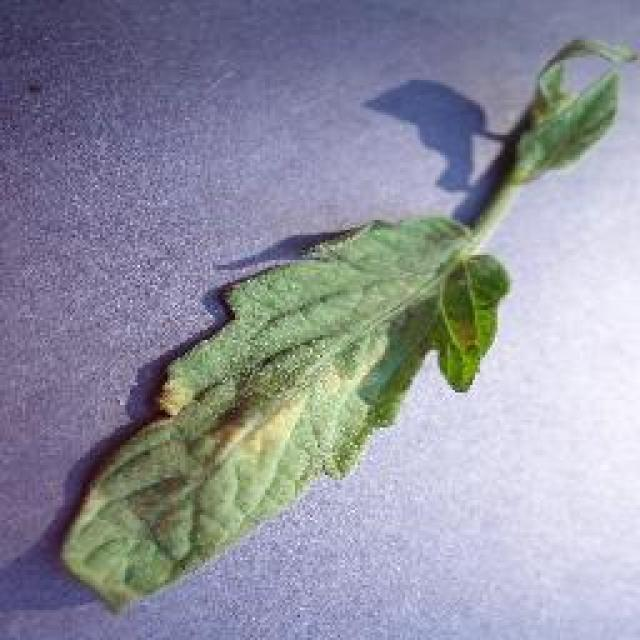Tomato___Leaf_Mold: (62, 40, 632, 605)
